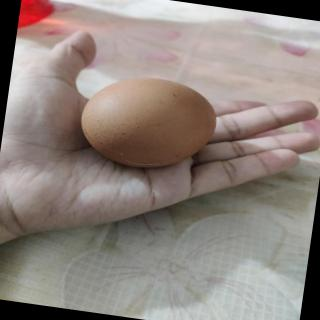Telur: (76, 68, 224, 181)
